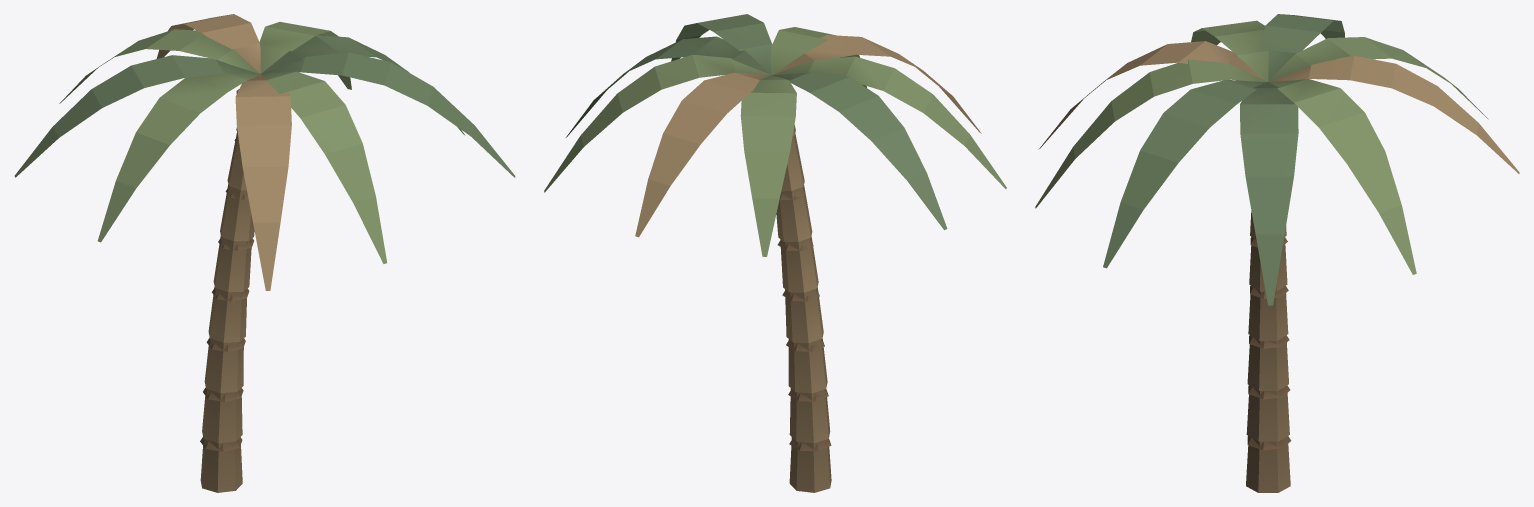
The model's file is palm.glb.
3 views of the same model, side by side, from view 1: azimuth 30°, elevation 25°; view 2: azimuth 150°, elevation 25°; view 3: azimuth 270°, elevation 25° (orthographic). The views are drawn at different scales.
Visible parts, largest first — view 1: palm.001; view 2: palm.001; view 3: palm.001.
Boxes of the visible parts, x1=… form: palm.001: x1=14, y1=14, x2=515, y2=492; palm.001: x1=544, y1=14, x2=1006, y2=492; palm.001: x1=1035, y1=14, x2=1519, y2=492.
Size of the model in its own units: 4.18 by 4 by 3.99.
